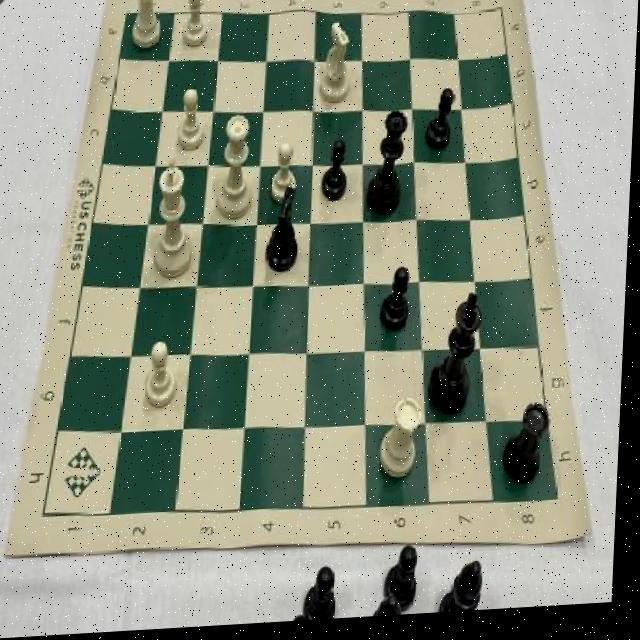black-bishop: (428, 295, 488, 429)
black-king: (258, 188, 310, 279)
black-knight: (421, 85, 459, 162), (380, 270, 415, 344), (320, 140, 355, 212)
black-pawn: (364, 108, 410, 228)
black-queen: (502, 403, 556, 501)
white-bishop: (150, 155, 202, 287)
white-king: (314, 20, 357, 113)
white-knight: (265, 137, 303, 214), (144, 339, 183, 412), (173, 84, 209, 157), (176, 0, 211, 55)
white-pawn: (216, 111, 256, 227)
white-queen: (381, 395, 429, 489), (127, 0, 168, 54)
